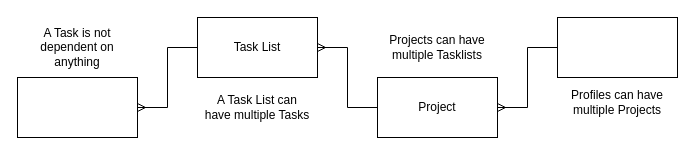
Some shapes in this 695 by 155 pixel diagram are drawn without their labels. The shapes that lost their labels are listed below. From the top down, each one's centre as x and y in pixels, then its label:
the point at 617,47: Profile
the point at 77,107: Tasks
